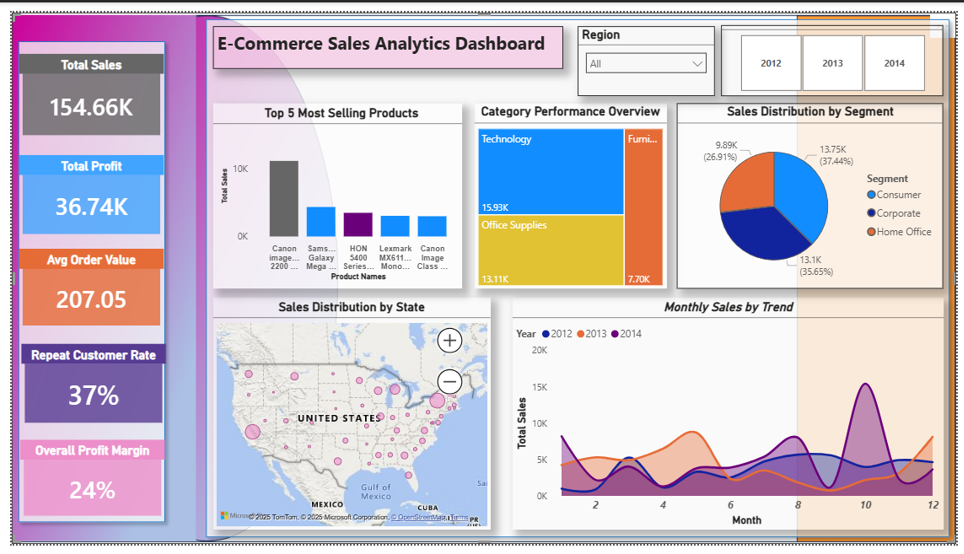

Layout of this report page (visuals, bound fields, positions):
{"tool":"powerbi","page":{"name":"Dashboard","canvas":[1280,720],"ordinal":4},"visuals":[{"type":"image","box":[0,0,1280,720],"z":0},{"type":"shape","box":[254.3,0,1025.7,720],"z":1000},{"type":"shape","box":[1.4,44.3,217.1,660],"z":2000},{"type":"cardVisual","title":"Total Sales","fields":{"Data":["Sum(Orders.Sales)"]},"box":[10,55.7,196.2,115.3],"z":3000,"group":"g1"},{"type":"lineChart","title":"Monthly Sales by Trend","fields":{"Category":["Orders.Month"],"Y":["Sum(Orders.Sales)"],"Series":["Orders.Year"]},"box":[677.9,385.6,584.6,314.2],"z":3000},{"type":"treemap","title":"Category Performance Overview","fields":{"Values":["Sum(Orders.Profit)"],"Group":["Orders.Category"]},"box":[627.1,123.5,260.7,251.1],"z":4000},{"type":"cardVisual","title":"Total Profit","fields":{"Data":["Sum(Orders.Profit)"]},"box":[10,192.9,196.2,112.5],"z":4000,"group":"g1"},{"type":"cardVisual","title":"Avg Order Value","fields":{"Data":["Orders.Average Order Value"]},"box":[10,319.2,196.2,109.8],"z":5000,"group":"g1"},{"type":"map","title":"Sales Distribution by State","fields":{"Category":["Orders.State"],"Size":["Sum(Orders.Profit)"]},"box":[273.1,385.6,376,314.2],"z":5000},{"type":"clusteredColumnChart","title":"Top 5 Most Selling Products","fields":{"Y":["Sum(Orders.Sales)"],"Category":["Orders.Product Name"]},"box":[273.3,123.3,336.7,251.7],"z":6000},{"type":"cardVisual","title":"Repeat Customer Rate","fields":{"Data":["Orders.Repeat Customer rate"]},"box":[12.7,448.2,196.2,112.5],"z":6000,"group":"g1"},{"type":"pieChart","title":"Sales Distribution by Segment","fields":{"Category":["Orders.Segment"],"Y":["Sum(Orders.Profit)"]},"box":[901.5,123.5,360.9,251.1],"z":7000},{"type":"cardVisual","title":"Overall Profit Margin","fields":{"Data":["Orders.Overall Profit Margin"]},"box":[11.4,578.5,196.2,108.4],"z":7000,"group":"g1"},{"type":"textbox","box":[273.1,19.2,474.8,57.6],"z":8000},{"type":"slicer","fields":{"Values":["Orders.Year"]},"box":[961.9,17.8,300.5,96.1],"z":9000},{"type":"slicer","title":"Region","fields":{"Values":["Orders.Region"]},"box":[767.1,19.2,185.2,94.7],"z":10000},{"type":"group","id":"g1","title":"Group 1","box":[10,55.7,198.6,631.4],"z":11000}]}

Visuals, with their boxes in screenshot pixels (x1, y1, x2, y2), scaled from the page's 1280x720 canvas onto the 964x554 screenshot:
image: <bbox>0, 0, 963, 553</bbox>
shape: <bbox>192, 0, 963, 553</bbox>
shape: <bbox>1, 34, 165, 542</bbox>
"Total Sales" cardVisual: <bbox>8, 43, 155, 132</bbox>
"Monthly Sales by Trend" lineChart: <bbox>511, 297, 951, 538</bbox>
"Category Performance Overview" treemap: <bbox>472, 95, 669, 288</bbox>
"Total Profit" cardVisual: <bbox>8, 148, 155, 235</bbox>
"Avg Order Value" cardVisual: <bbox>8, 246, 155, 330</bbox>
"Sales Distribution by State" map: <bbox>206, 297, 489, 538</bbox>
"Top 5 Most Selling Products" clusteredColumnChart: <bbox>206, 95, 459, 289</bbox>
"Repeat Customer Rate" cardVisual: <bbox>10, 345, 157, 431</bbox>
"Sales Distribution by Segment" pieChart: <bbox>679, 95, 951, 288</bbox>
"Overall Profit Margin" cardVisual: <bbox>9, 445, 156, 529</bbox>
textbox: <bbox>206, 15, 563, 59</bbox>
slicer - Orders.Year: <bbox>724, 14, 951, 88</bbox>
"Region" slicer: <bbox>578, 15, 717, 88</bbox>
"Group 1" group: <bbox>8, 43, 157, 529</bbox>
